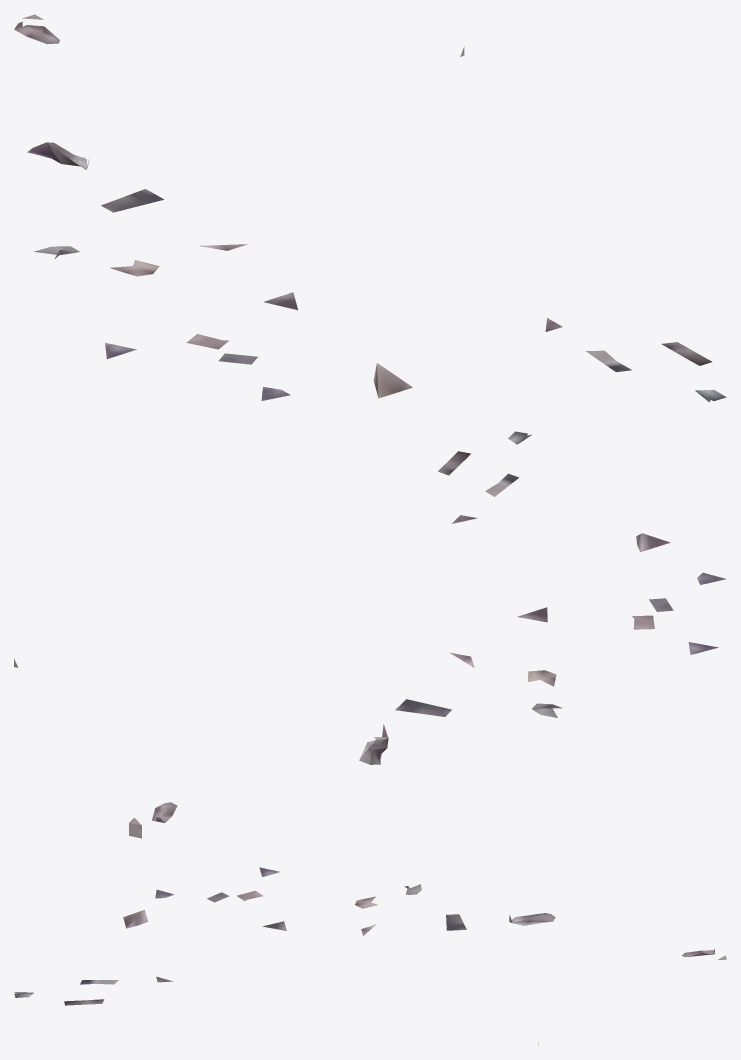
3 renders of one model, top to bottom at view 1: azimuth 30°, elevation 25°; view 2: azimuth 150°, elevation 25°; view 3: azimuth 270°, elevation 25°, orthographic. The views are drawn at different scales.
Visible parts, largest first — view 1: Mesh_0; view 2: Mesh_0; view 3: Mesh_0.
Part boxes in pixels (x1,y1,x2,y2): Mesh_0: (14,14,726,402); Mesh_0: (14,431,726,838); Mesh_0: (14,867,726,1044).
Bounding box in the file's own units: 612 × 35.57 × 1037.
1 material, 1 textured.
